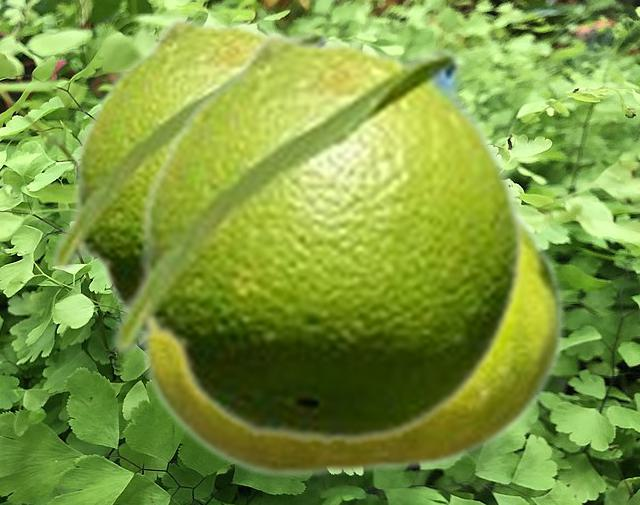dalandan: (107, 30, 528, 447), (138, 209, 564, 479), (47, 15, 333, 309)
